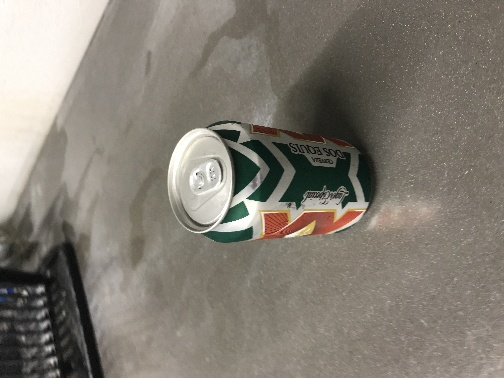DEL: (200, 100, 254, 130), (196, 133, 263, 155)
